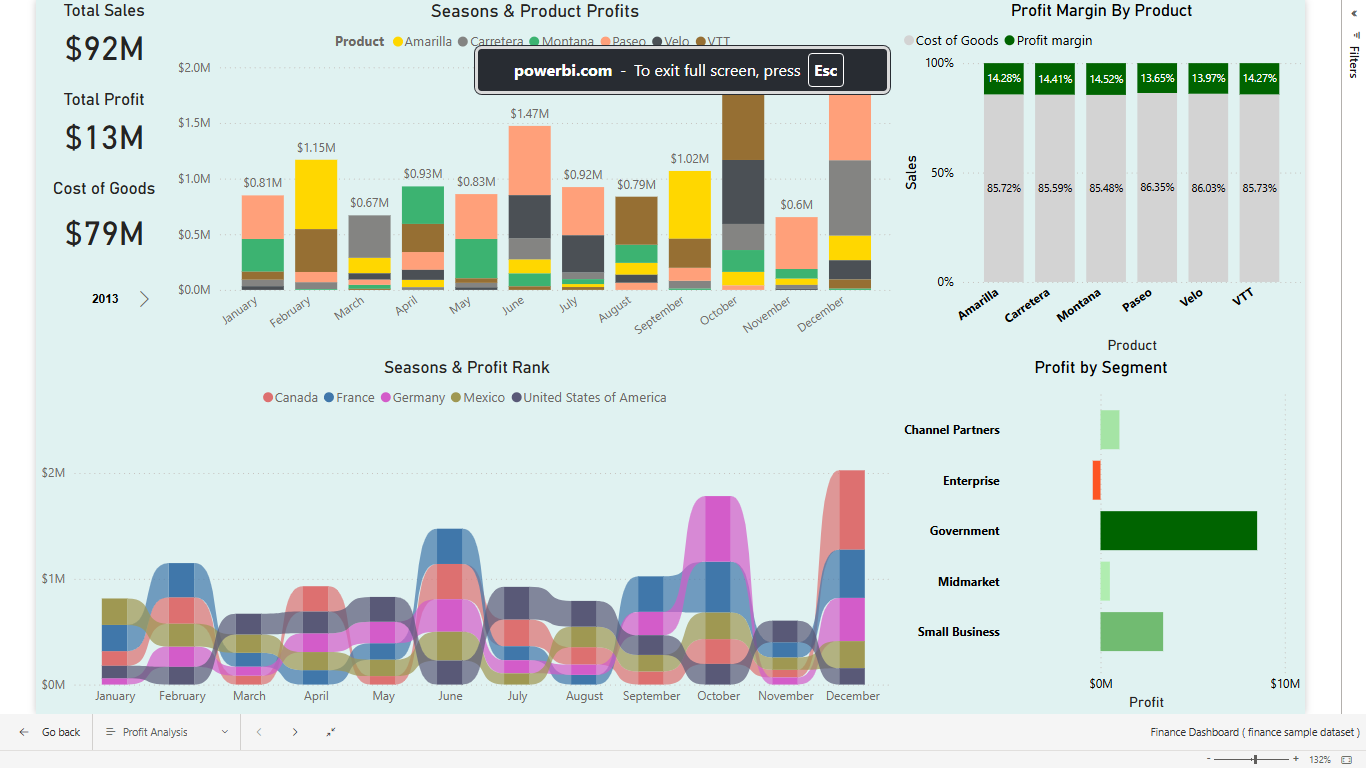

The page's visual inventory and layout, read from the dashboard file:
{"tool":"powerbi","page":{"name":"Profit Analysis","canvas":[1280,720],"ordinal":0},"visuals":[{"type":"hundredPercentStackedColumnChart","title":"Profit Margin By Product","fields":{"Category":["financials.Product"],"Y":["Sum(financials.COGS)","Sum(financials.Profit)"]},"box":[868.8,0,411.2,360],"z":0},{"type":"ribbonChart","title":"Seasons & Profit Rank","fields":{"Category":["financials.Date.Variation.Date Hierarchy.Year","financials.Date.Variation.Date Hierarchy.Quarter","financials.Date.Variation.Date Hierarchy.Month","financials.Date.Variation.Date Hierarchy.Day"],"Series":["financials.Country"],"Y":["Sum(financials.Profit)"]},"box":[0,360,868.8,360],"z":1000},{"type":"clusteredBarChart","fields":{"Category":["financials.Segment"],"Y":["Sum(financials.Profit)"]},"box":[868.3,360,411.7,360],"z":2000},{"type":"lineStackedColumnComboChart","title":"Seasons & Product Profits","fields":{"Category":["financials.Month Name"],"Y":["Sum(financials.Profit)"],"Series":["financials.Product"]},"box":[137.5,0,731.2,360],"z":3000},{"type":"card","title":"Total Sales","fields":{"Values":["Sum(financials. Sales)"]},"box":[0,0,137.5,71.2],"z":4000},{"type":"card","title":"Total Profit","fields":{"Values":["Sum(financials.Profit)"]},"box":[0,90,137.5,71.2],"z":5000},{"type":"card","title":"Cost of Goods","fields":{"Values":["Sum(financials.COGS)"]},"box":[0,180,137.5,85],"z":6000},{"type":"slicer","title":"Year","fields":{"Values":["financials.Year"]},"box":[17.1,274.3,102.9,52.9],"z":7000}]}

Visuals, with their boxes on the page's 1280x720 design canvas (x1, y1, x2, y2). These are canvas units, not pixel positions in the 1366x768 screenshot, which may show the page scaled, cropped or inside an application window:
"Profit Margin By Product" hundredPercentStackedColumnChart: [x1=869, y1=0, x2=1280, y2=360]
"Seasons & Profit Rank" ribbonChart: [x1=0, y1=360, x2=869, y2=720]
clusteredBarChart - financials.Segment x Sum(financials.Profit): [x1=868, y1=360, x2=1280, y2=720]
"Seasons & Product Profits" lineStackedColumnComboChart: [x1=138, y1=0, x2=869, y2=360]
"Total Sales" card: [x1=0, y1=0, x2=138, y2=71]
"Total Profit" card: [x1=0, y1=90, x2=138, y2=161]
"Cost of Goods" card: [x1=0, y1=180, x2=138, y2=265]
"Year" slicer: [x1=17, y1=274, x2=120, y2=327]
